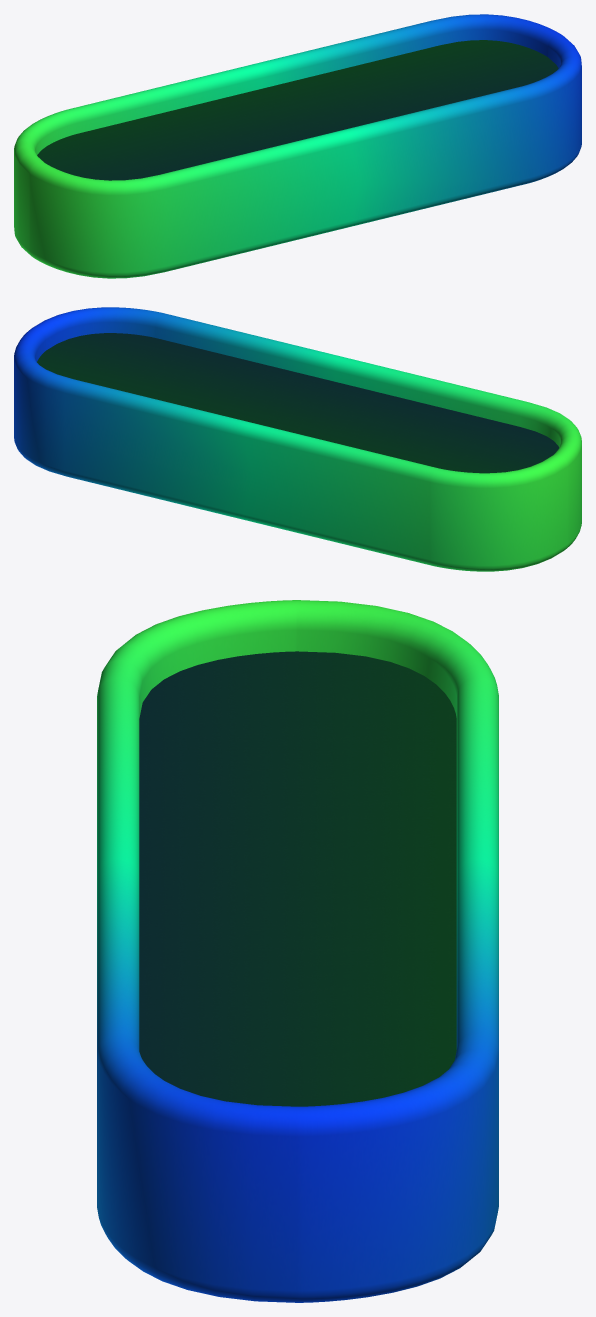
File: Paddle-9.dae
The picture shows the model from 3 angles, top to bottom: view 1: azimuth 30°, elevation 25°; view 2: azimuth 150°, elevation 25°; view 3: azimuth 270°, elevation 25°; orthographic projection. The views are drawn at different scales.
Visible parts, largest first — view 1: Paddle; view 2: Paddle; view 3: Paddle.
Part boxes in pixels (x1,y1,x2,y2): Paddle: (14,14,581,278); Paddle: (14,307,581,571); Paddle: (97,600,498,1302).
Size of the model in its own units: 0.2922 by 0.05 by 0.0946.
2 materials, 2 textured.
